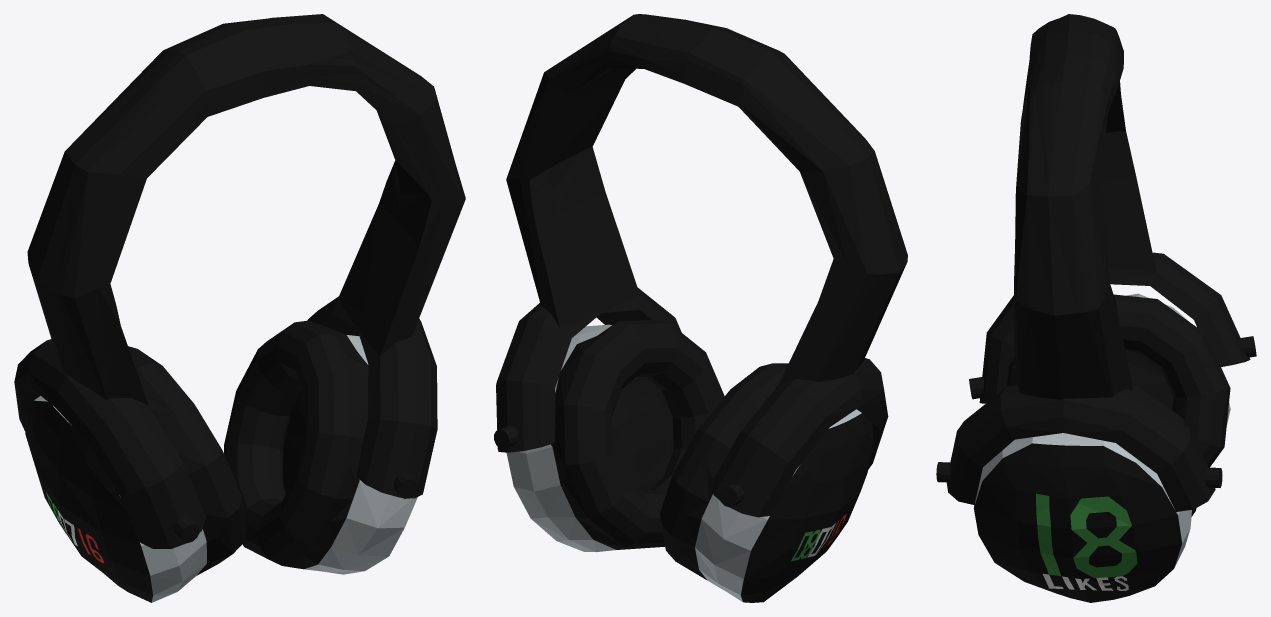
3 views of the same model, side by side, from view 1: azimuth 30°, elevation 25°; view 2: azimuth 150°, elevation 25°; view 3: azimuth 270°, elevation 25° (orthographic). The views are drawn at different scales.
Parts seen in each view (by area): view 1: node_MeshObject911958336-PolyPaper15; view 2: node_MeshObject911958336-PolyPaper15; view 3: node_MeshObject911958336-PolyPaper15.
Boxes of the visible parts, x1,y1,x2,y2 form: node_MeshObject911958336-PolyPaper15: [14, 14, 465, 602]; node_MeshObject911958336-PolyPaper15: [494, 14, 907, 602]; node_MeshObject911958336-PolyPaper15: [936, 14, 1256, 602].
Bounding box in the file's own units: 1.71 × 2.24 × 1.24.
